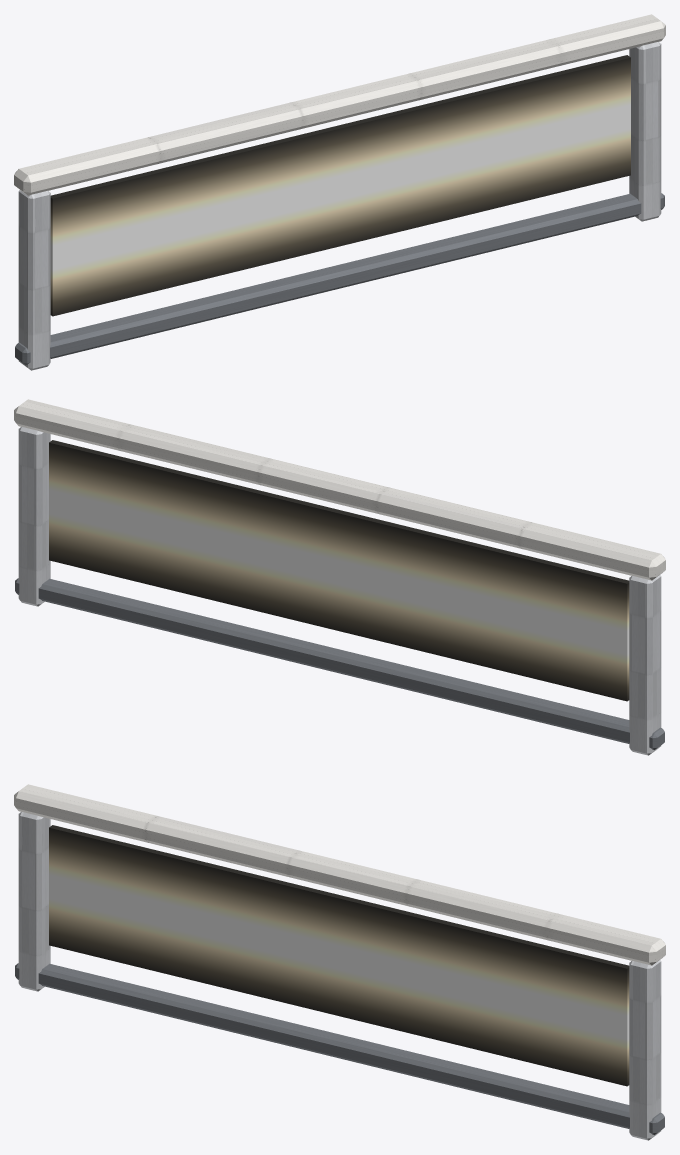
Rendered from sanc_balustrade.obj.
3 renders of one model, top to bottom at view 1: azimuth 30°, elevation 25°; view 2: azimuth 150°, elevation 25°; view 3: azimuth 330°, elevation 25°, orthographic.
Visible parts, largest first — view 1: sanc_balustrade; view 2: sanc_balustrade; view 3: sanc_balustrade.
Part boxes in pixels (x1,y1,x2,y2): sanc_balustrade: (14, 14, 665, 370); sanc_balustrade: (14, 399, 665, 755); sanc_balustrade: (14, 784, 665, 1140).
Size of the model in its own units: 4 by 1.16 by 0.16.
1 material, 1 textured.
